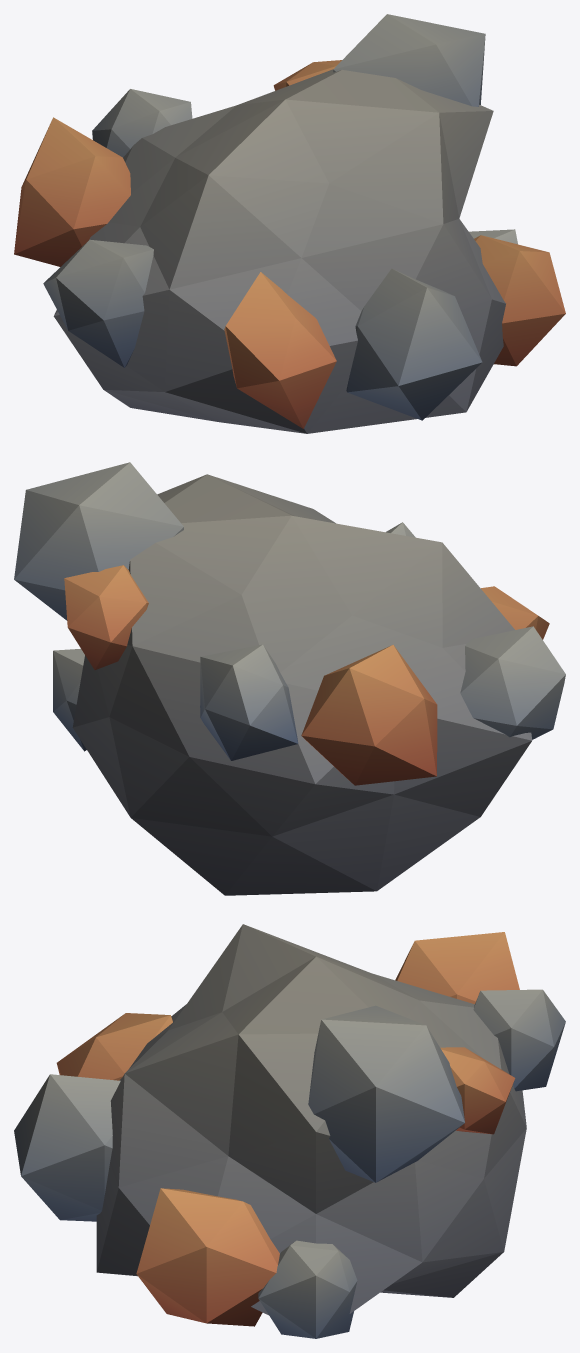
File: item_ore_iron.glb
3 views of the same model, one above another, from view 1: azimuth 30°, elevation 25°; view 2: azimuth 150°, elevation 25°; view 3: azimuth 270°, elevation 25° (orthographic). The views are drawn at different scales.
Parts seen in each view (by area): view 1: item_ore_iron; view 2: item_ore_iron; view 3: item_ore_iron.
Boxes of the visible parts, x1,y1,x2,y2 form: item_ore_iron: (14, 14, 565, 433); item_ore_iron: (14, 462, 565, 895); item_ore_iron: (14, 924, 565, 1338).
Bounding box in the file's own units: 1.41 × 0.9444 × 1.32.
1 material, 1 textured.
